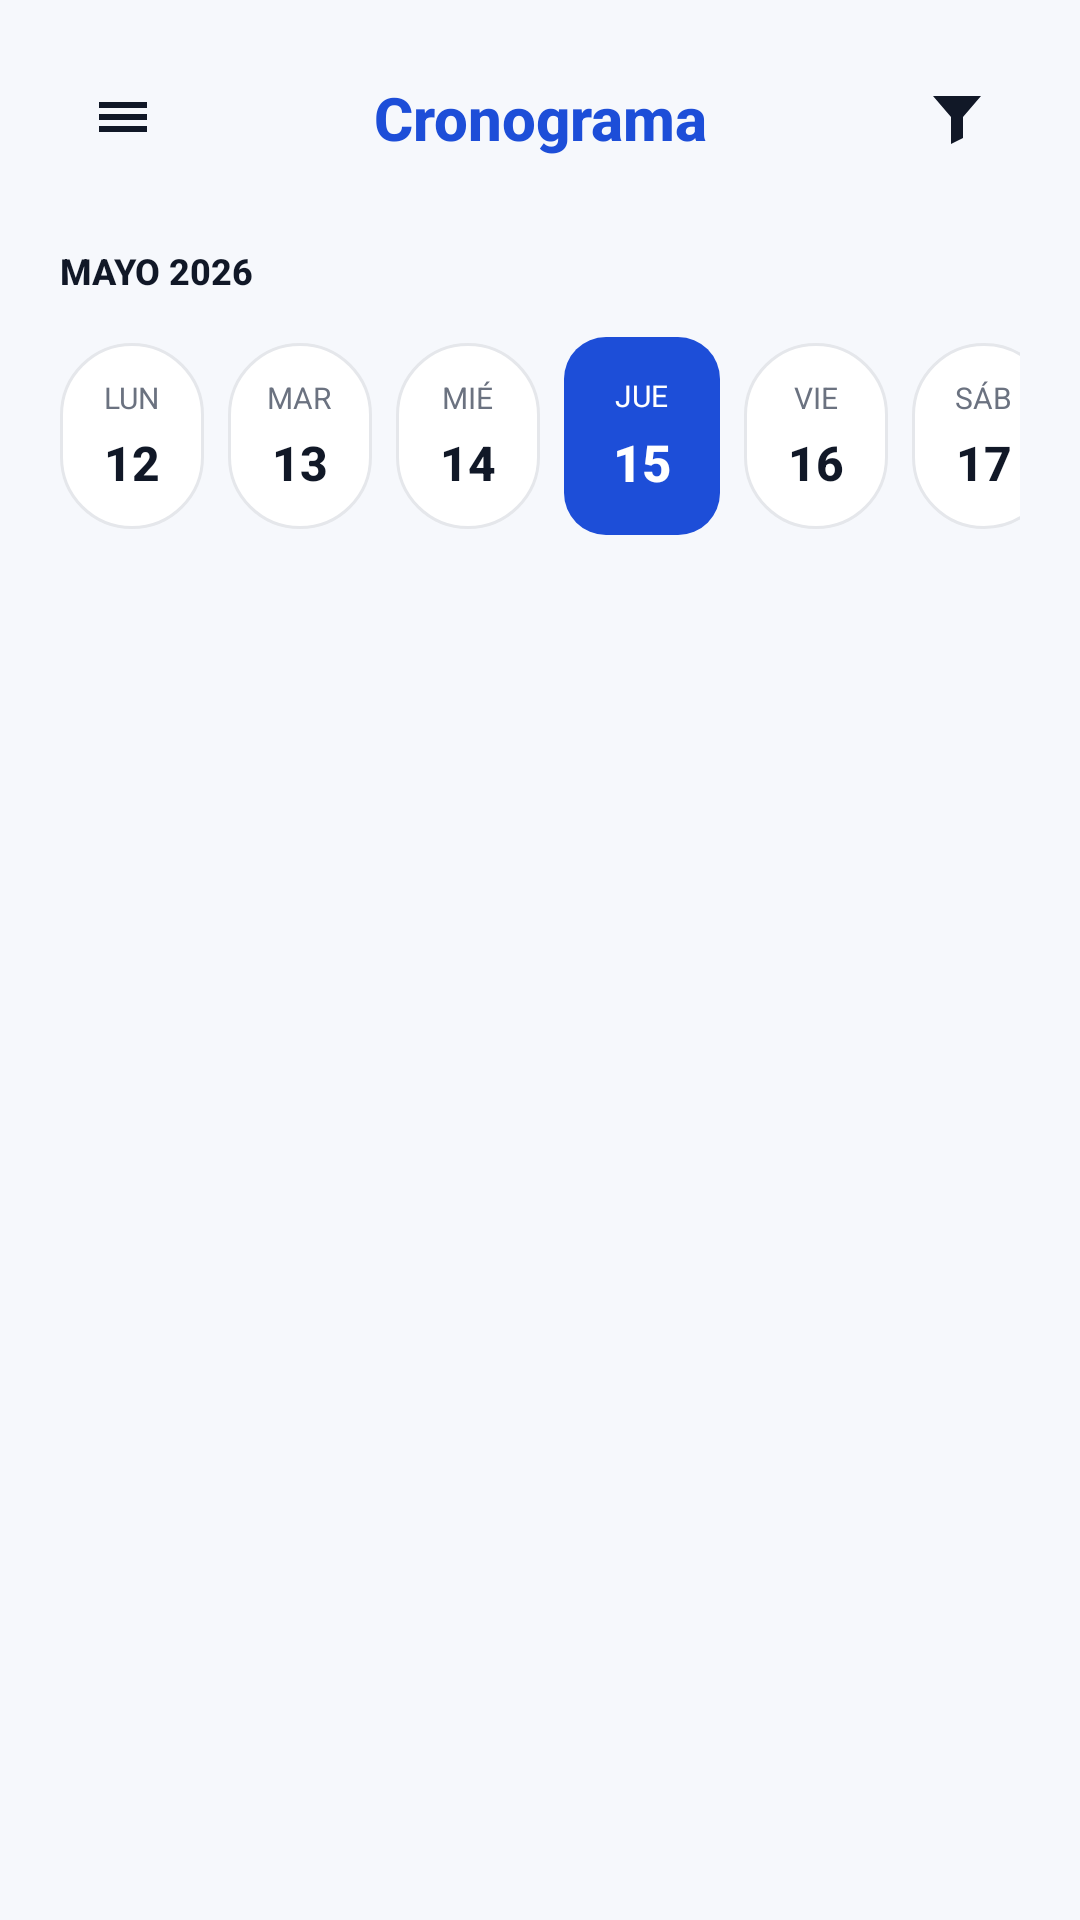

Icon bounding boxes for this 1080x1920 phone screenshot, format {"x1": x1, "y1": y1, "x2": x2, "y2": y2}:
Abrir menú: {"x1": 99, "y1": 102, "x2": 147, "y2": 132}
Filtrar: {"x1": 933, "y1": 96, "x2": 981, "y2": 144}
